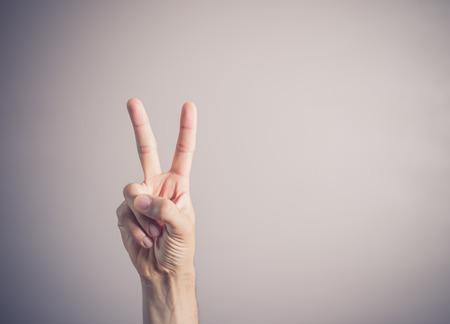peace_sign: (112, 93, 207, 281)
